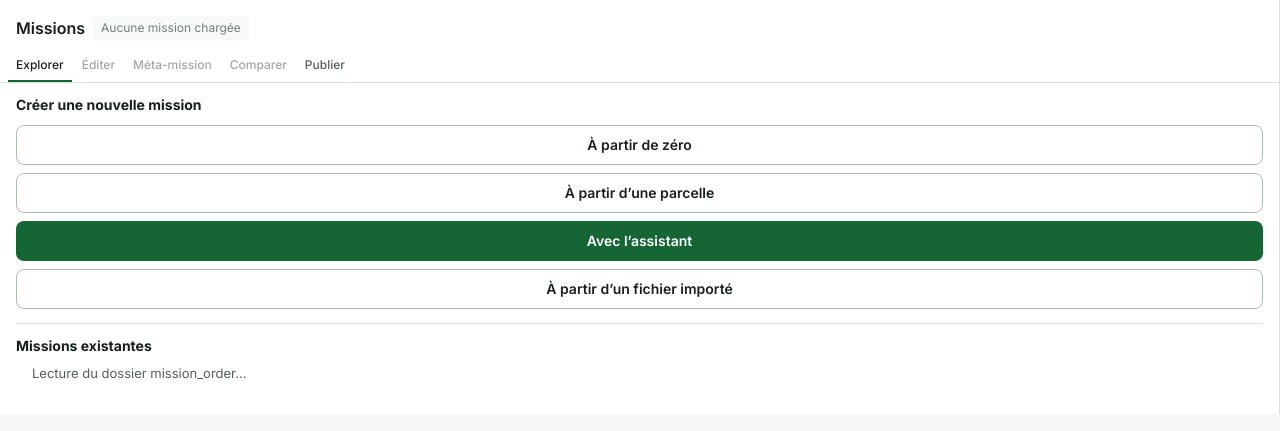
MissionPanel (T13.11) › hides publish actions until a mission is open
Focus the tab "Publier". click: (325, 65)
box: top-left (297, 48), bottom-right (353, 82)
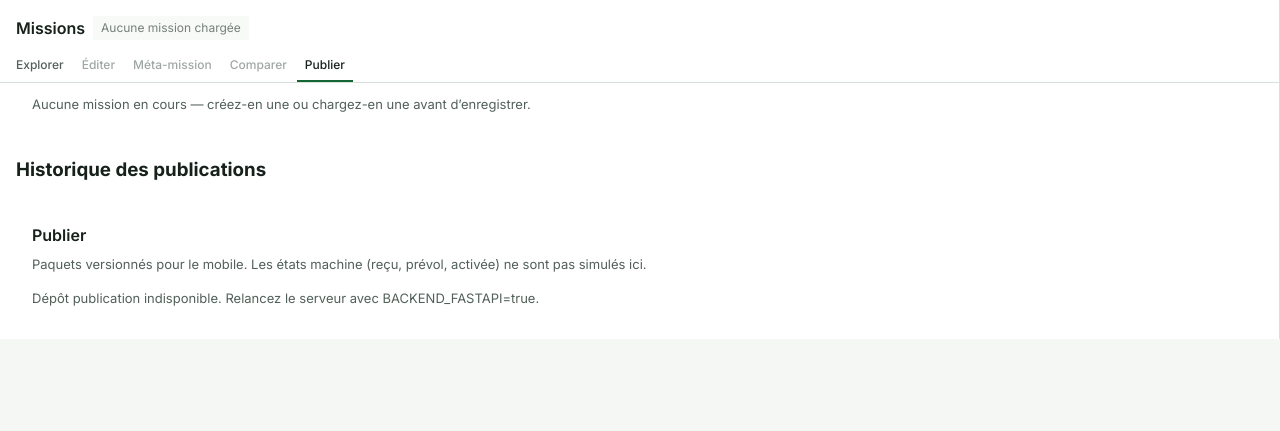
Expected: the text "Aucune mission en cours" is shown, top-left (32, 96), bottom-right (531, 112)
Expected: the heading "Historique des publications" is shown, top-left (16, 158), bottom-right (266, 181)
